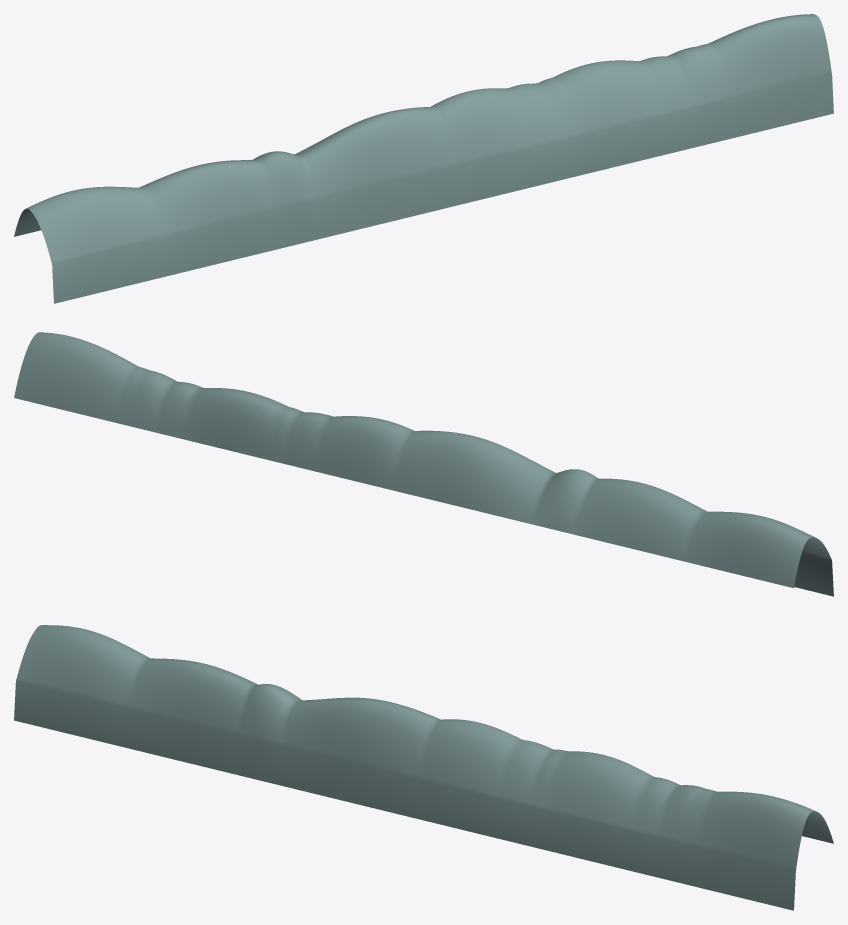
File: range_grove_near.glb
The picture shows the model from 3 angles, top to bottom: view 1: azimuth 30°, elevation 25°; view 2: azimuth 150°, elevation 25°; view 3: azimuth 330°, elevation 25°; orthographic projection.
Visible parts, largest first — view 1: land; view 2: land; view 3: land.
Boxes of the visible parts, left/top/right/bottom form: land: left=14, top=14, right=833, bottom=303; land: left=14, top=332, right=833, bottom=596; land: left=14, top=625, right=833, bottom=910.
Size of the model in its own units: 520 by 57.38 by 46.2.
